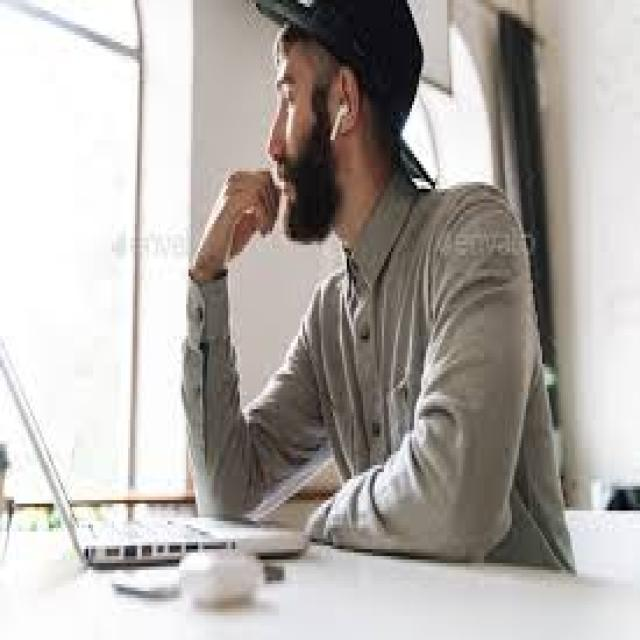cap: (253, 0, 439, 132)
